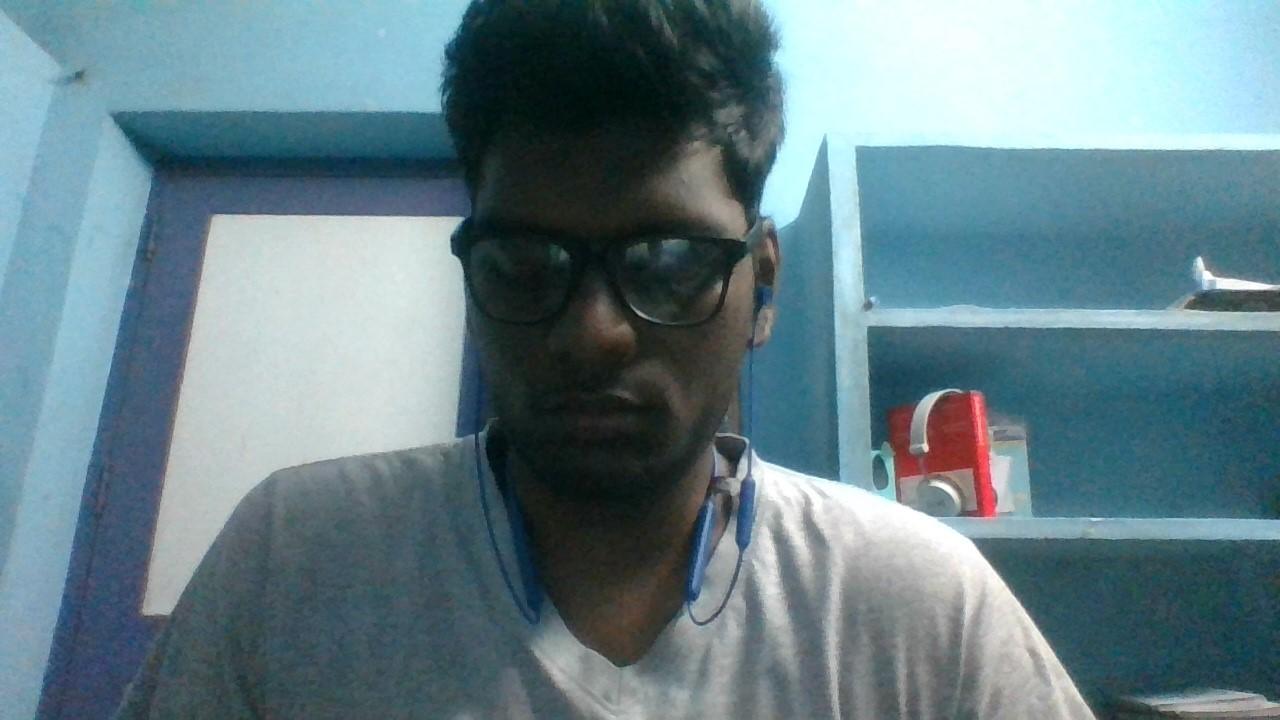person: (163, 7, 1073, 720)
